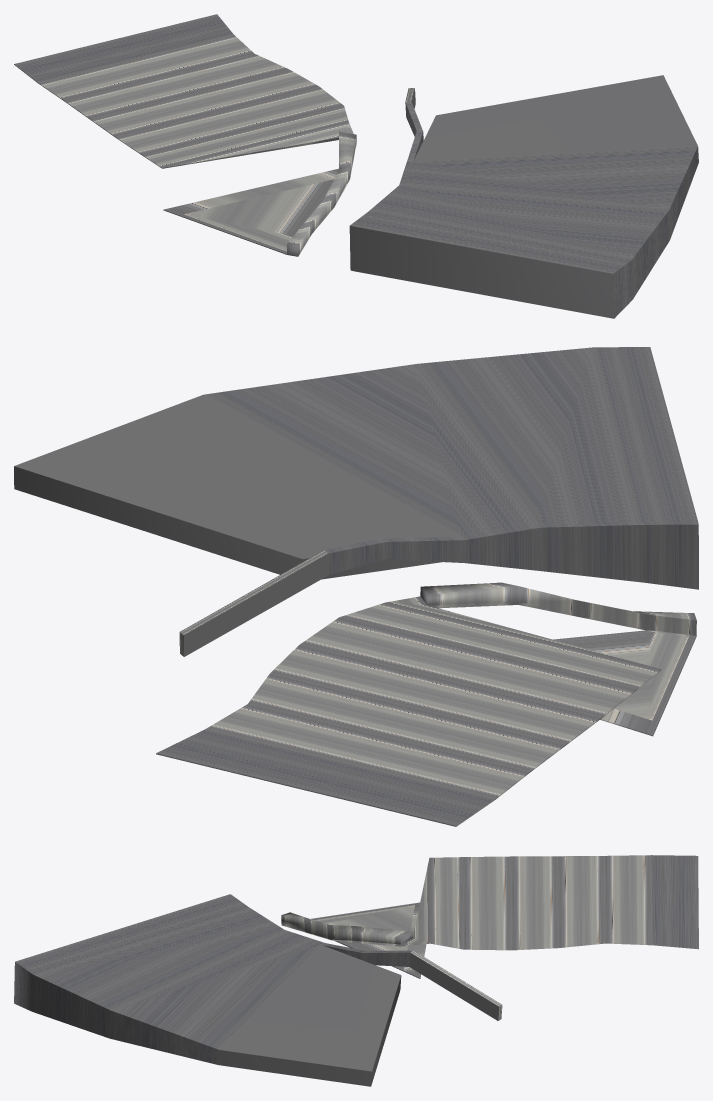
File: weird thing test export.FBX
3 views of the same model, one above another, from view 1: azimuth 30°, elevation 25°; view 2: azimuth 150°, elevation 25°; view 3: azimuth 270°, elevation 25° (orthographic). The views are drawn at different scales.
Parts seen in each view (by area): view 1: polySurface1; view 2: polySurface1; view 3: polySurface1.
Boxes of the visible parts, box(x1,y1,x2,y2) form: polySurface1: box(14, 14, 698, 318); polySurface1: box(14, 347, 698, 826); polySurface1: box(14, 855, 698, 1086).
Bounding box in the file's own units: 0.7859 × 0.0944 × 1.05.
